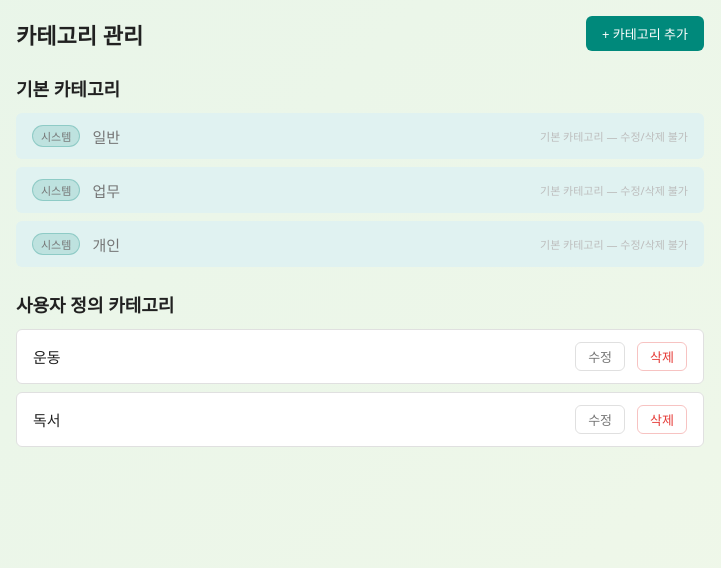
it: CategoryPage › 빈 이름으로 저장 시 에러 메시지를 표시한다
Click the button "+ 카테고리 추가" at (645,34), box [586,16,704,51]
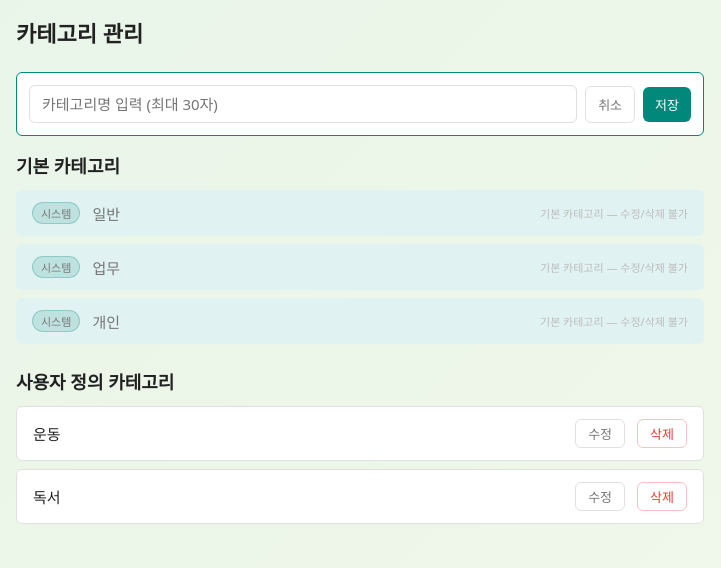
Click the button "저장" at (667,104), box [643,86,691,122]
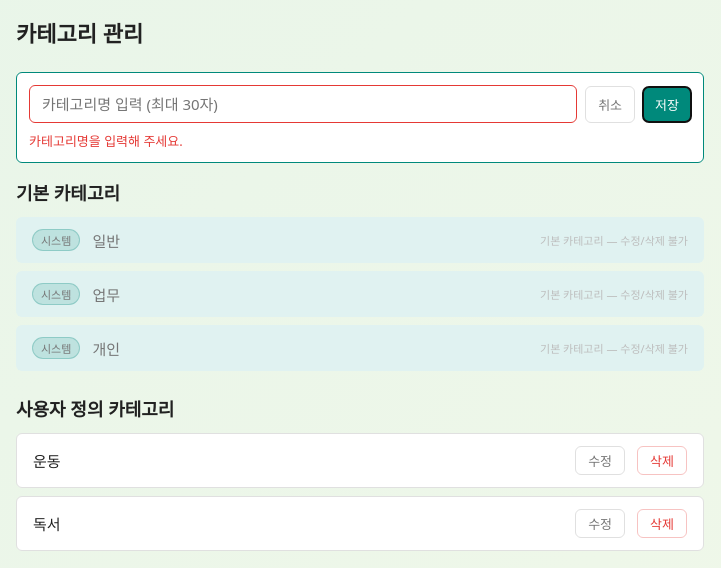
Now the text "카테고리명을 입력해 주세요." is shown, box [29,132,183,150]
